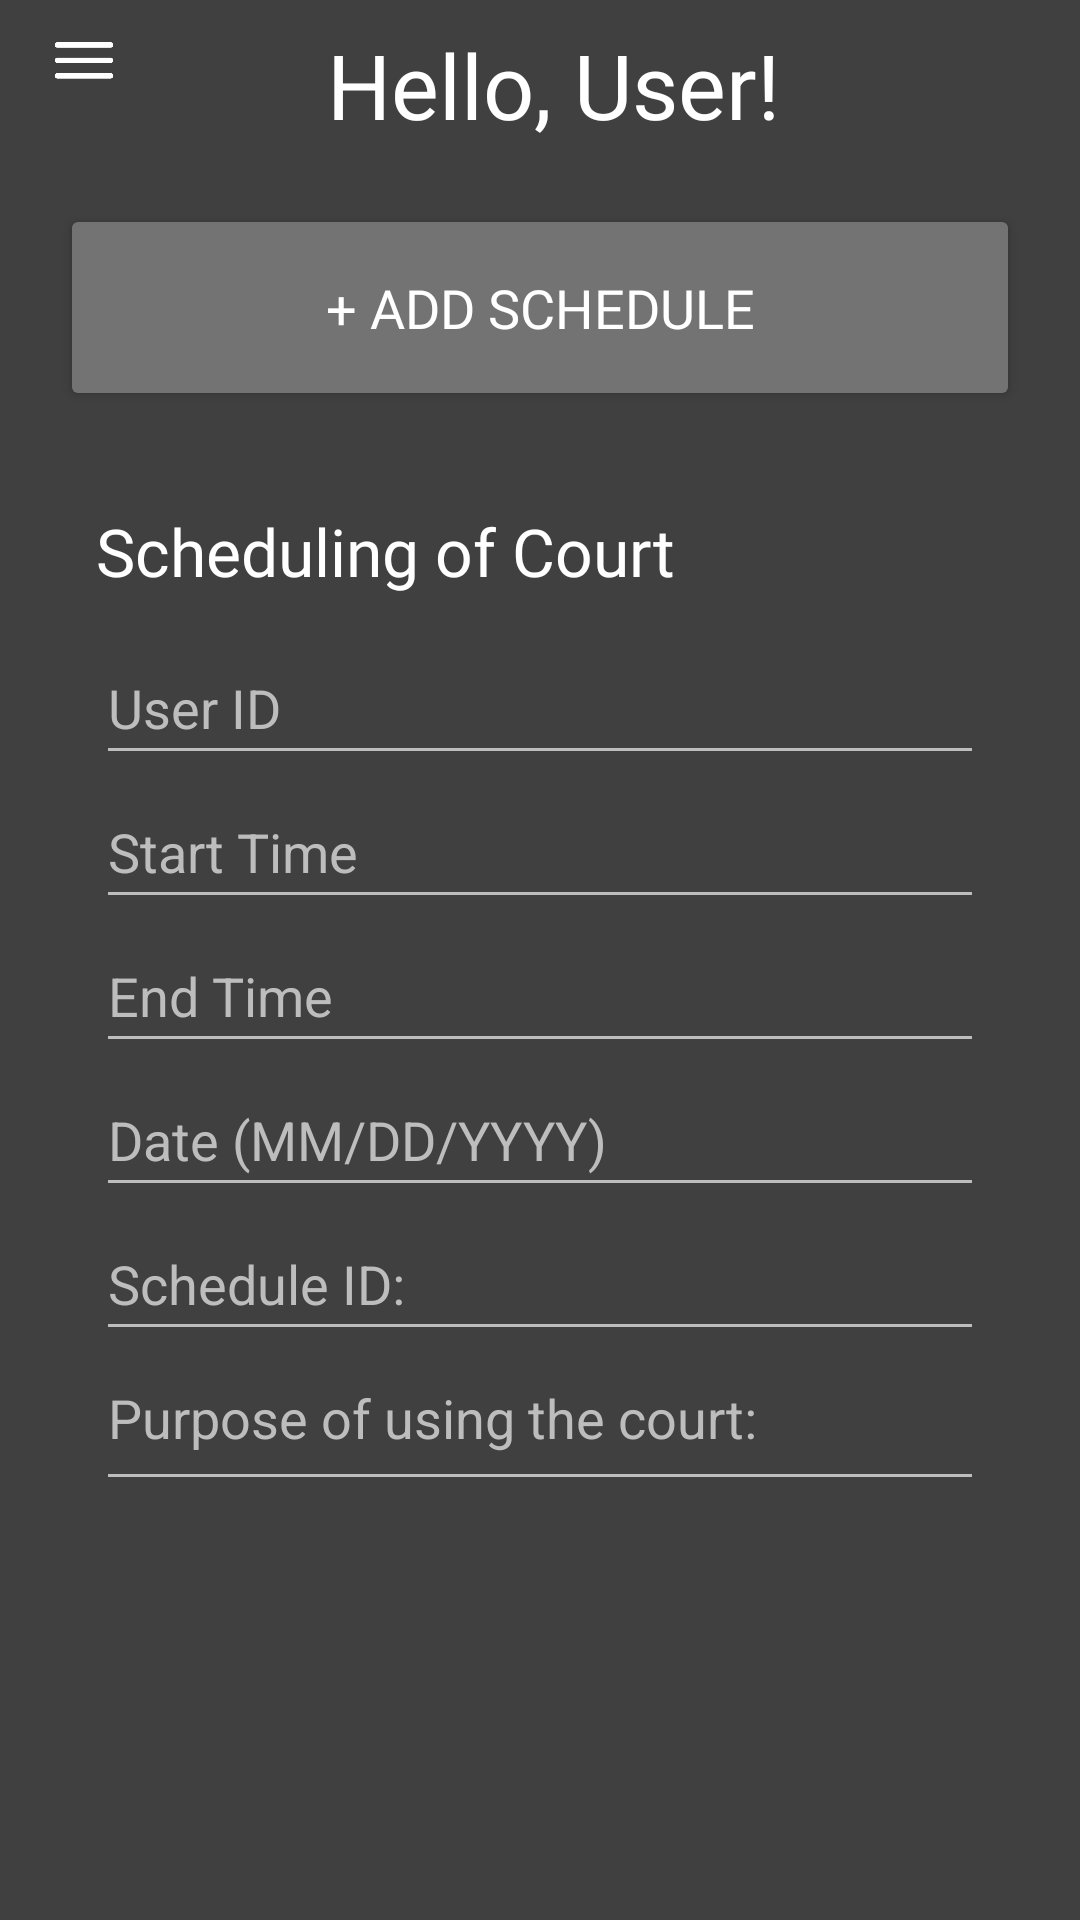

Named icons in this screenshot (1080*1920) and their bounding boxes, (x1, y1, x2, y2):
Open Navigation Menu: (55, 42, 113, 79)
